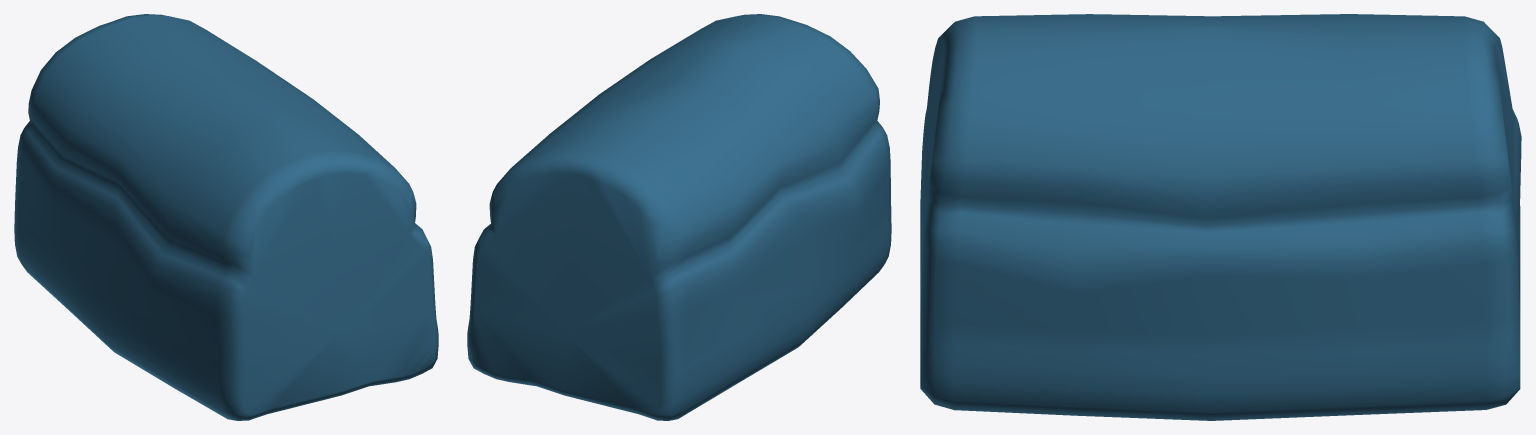
Rendered from BreadLoafA_SM.fbx.
3 views of the same model, side by side, from view 1: azimuth 30°, elevation 25°; view 2: azimuth 150°, elevation 25°; view 3: azimuth 270°, elevation 25° (orthographic). The views are drawn at different scales.
Visible parts, largest first — view 1: BreadLoafA_SM; view 2: BreadLoafA_SM; view 3: BreadLoafA_SM.
Part boxes in pixels (x1=…): BreadLoafA_SM: x1=14, y1=14, x2=438, y2=420; BreadLoafA_SM: x1=467, y1=14, x2=891, y2=420; BreadLoafA_SM: x1=920, y1=14, x2=1521, y2=420.
Size of the model in its own units: 0.17 by 0.157 by 0.2649.
